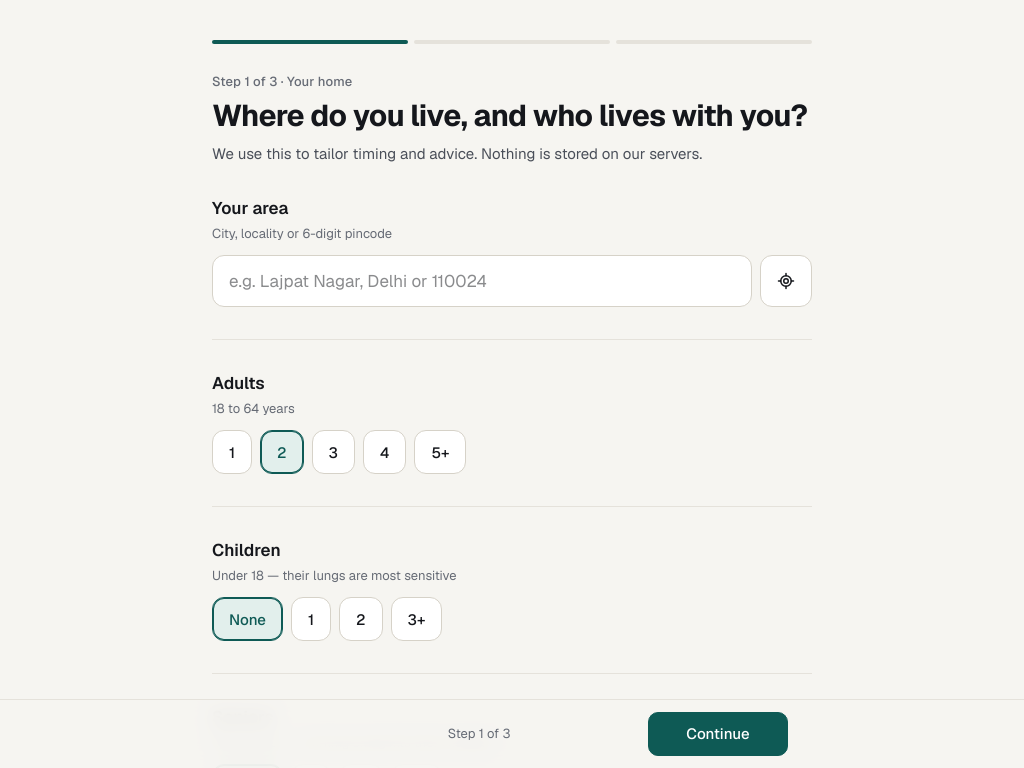
Accessibility - OnboardingForm (3 Steps, Progress, Labels & Keyboard) › supports navigation across all 3 steps with back button and submission
Later steps or results of the test are not shown.
Type "Noida Sector 62" into the field labelled "Your area" at (482, 281), box 212,255 -> 752,307
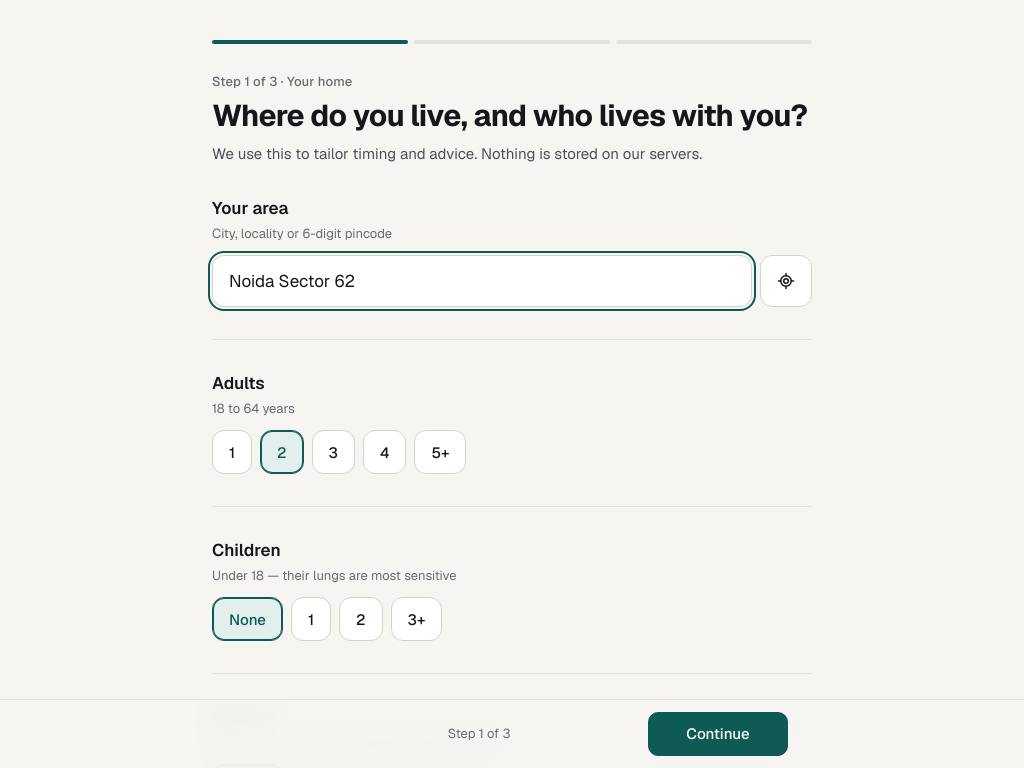
Click the button "Continue" at (718, 734), box 648,712 -> 788,756
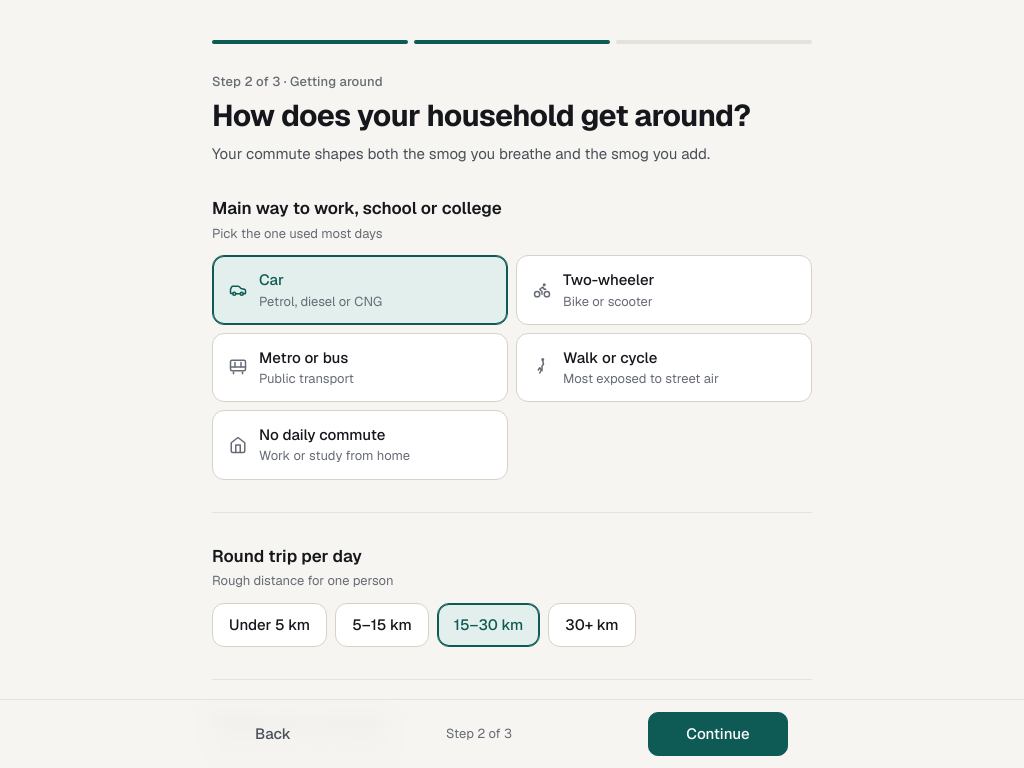
Expected: the text "Step 2 of 3 · Getting around" is shown, 212,73 -> 383,90
Expected: the element named "Main commute" is shown, 212,255 -> 812,480
// Verify Back button returns to Step 1
Click the button "Back" at (273, 734), box 236,712 -> 310,756
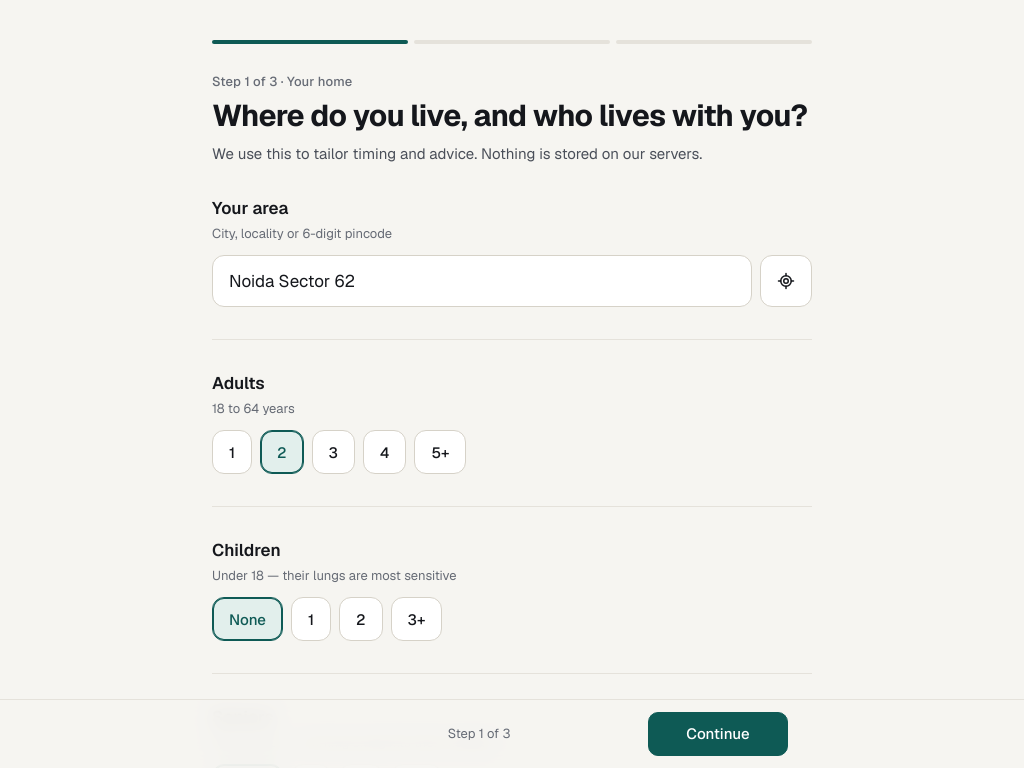
Expected: the text "Step 1 of 3 · Your home" is shown, 212,73 -> 352,90
// Return to Step 2, then advance to Step 3
Click the button "Continue" at (718, 734), box 648,712 -> 788,756
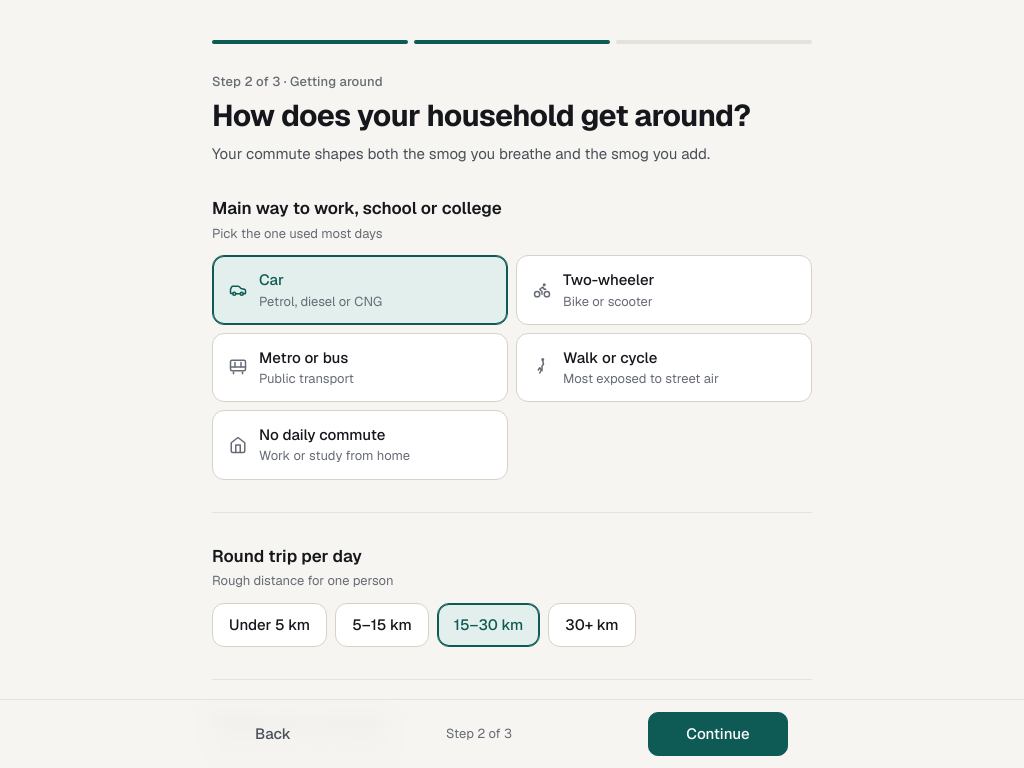
Click the button "Continue" at (718, 734), box 648,712 -> 788,756
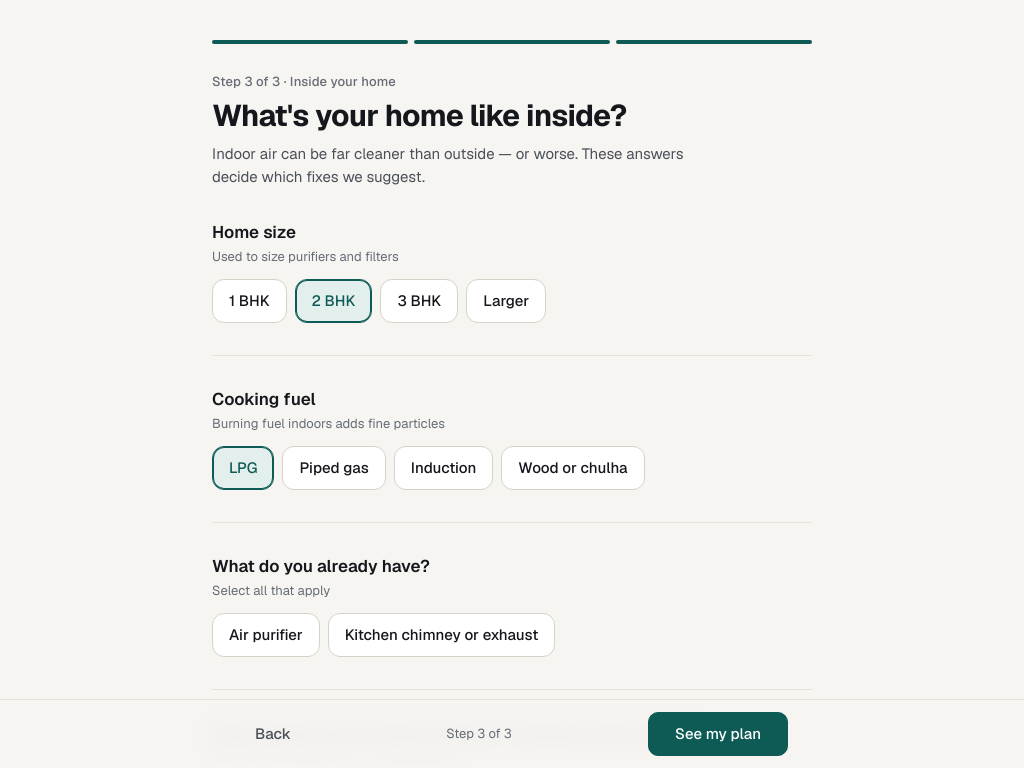
Expected: the text "Step 3 of 3 · Inside your home" is shown, 212,73 -> 396,90
Expected: the element named "Cooking fuel" is shown, 212,446 -> 645,490
